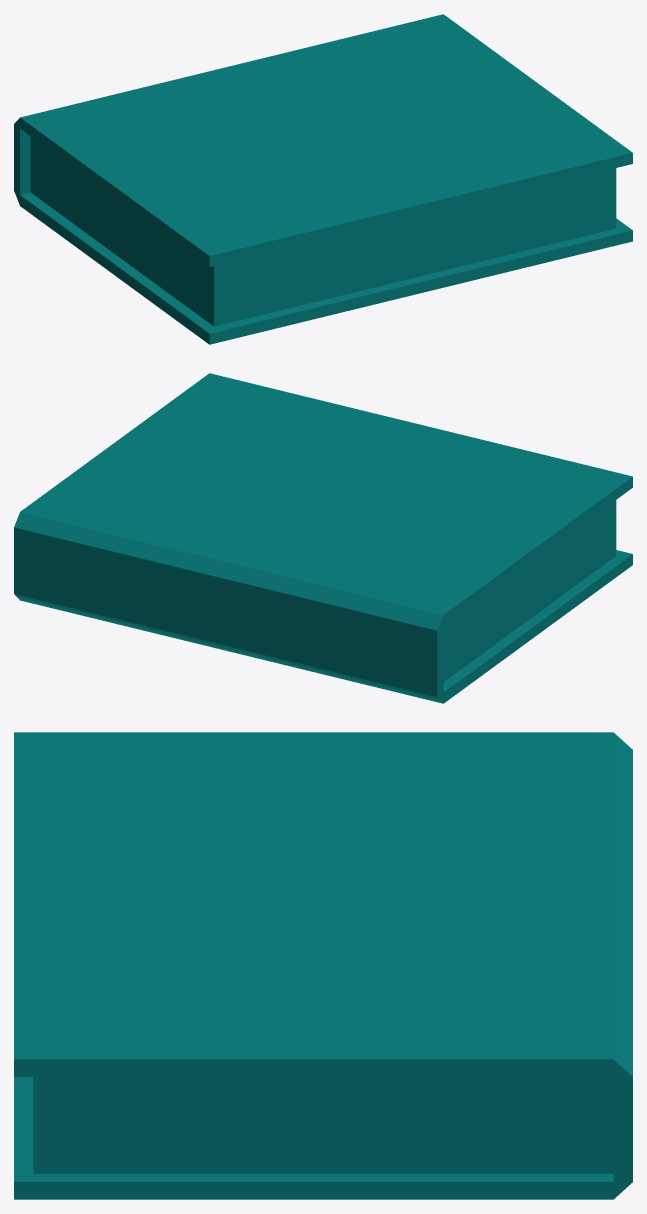
The model's file is WR Single Book.fbx.
3 views of the same model, one above another, from view 1: azimuth 30°, elevation 25°; view 2: azimuth 150°, elevation 25°; view 3: azimuth 270°, elevation 25° (orthographic). The views are drawn at different scales.
Parts seen in each view (by area): view 1: Single Book; view 2: Single Book; view 3: Single Book.
Boxes of the visible parts, x1,y1,x2,y2 form: Single Book: (14, 14, 632, 344); Single Book: (14, 373, 632, 703); Single Book: (14, 732, 632, 1199).
Bounding box in the file's own units: 10 × 2 × 8.
